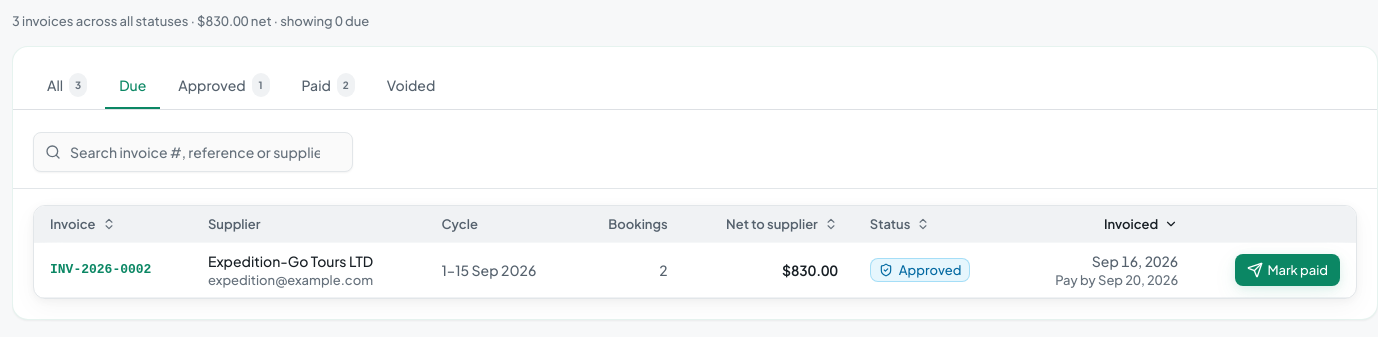
Test case: InvoicesTab — approving (maker–checker) › shows approved-but-unpaid invoices on their own tab, still unpaid
Expected: the text "INV-2026-0002" is shown, [50,262,151,277]
The server-side filter is what the tab is for.
Step 1. Click the button "Approved 1" → (224, 86), box [164,63,284,109]
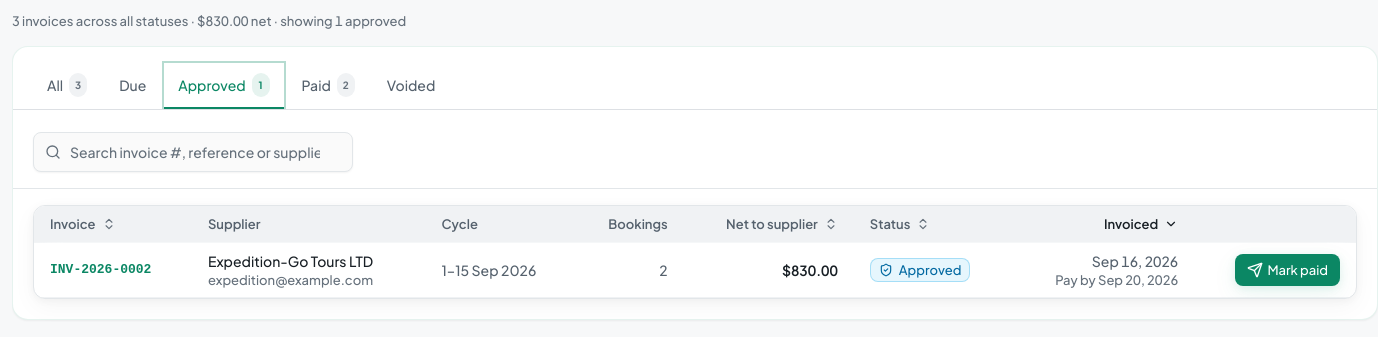
Expected: the text "Approved" is shown, [870,258,970,282]
Expected: the text "showing 1 approved" is shown, [12,13,406,29]
